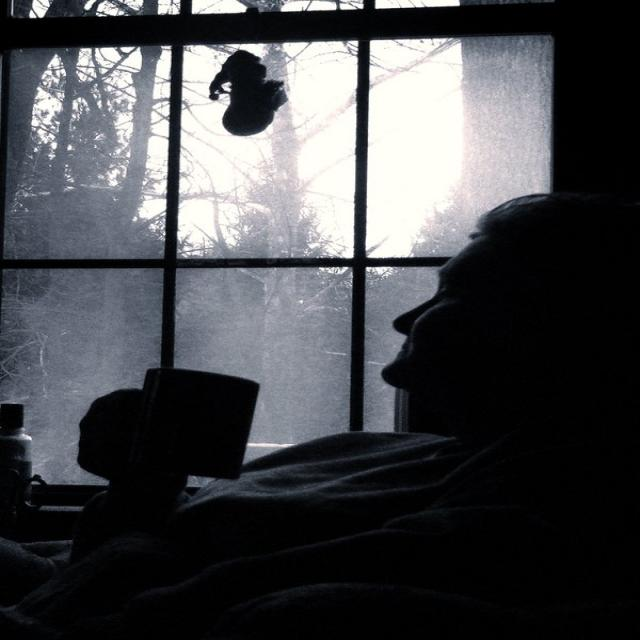Cup: (109, 367, 292, 497)
People: (386, 175, 640, 640)
